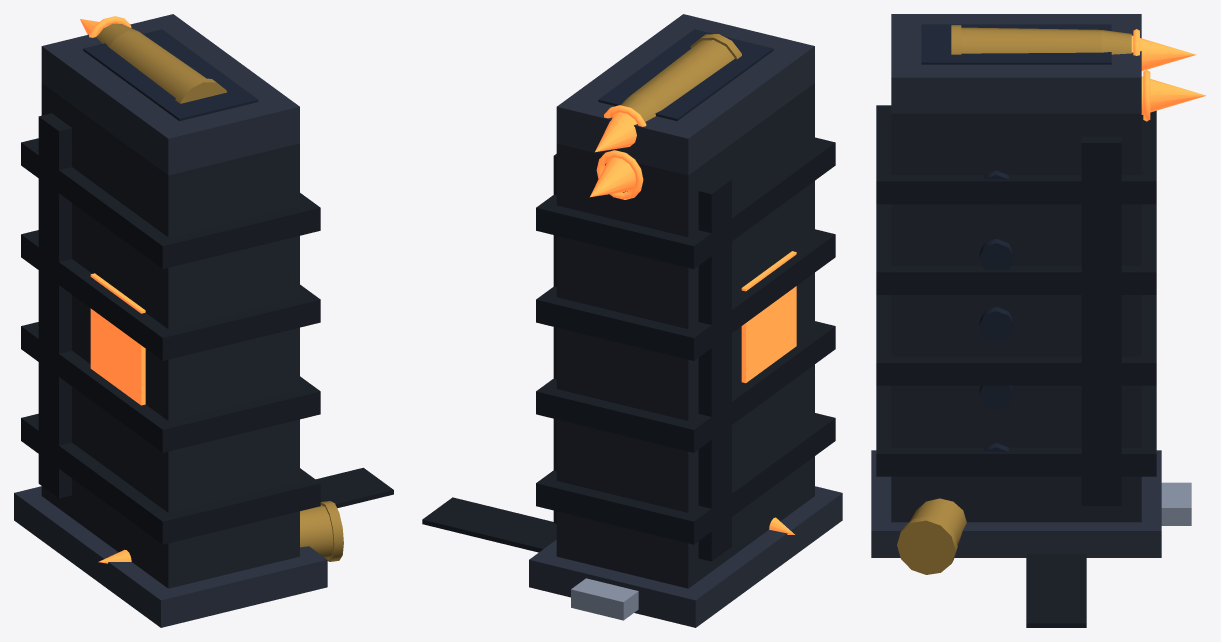
Rendered from ammo_incendiary.glb.
3 renders of one model, left to right at view 1: azimuth 30°, elevation 25°; view 2: azimuth 150°, elevation 25°; view 3: azimuth 270°, elevation 25°, orthographic.
Parts seen in each view (by area): view 1: ammo_incendiary_mag, ammo_incendiary_lips, ammo_incendiary_base, ammo_incendiary_side_rail-1, ammo_incendiary_rib3, ammo_incendiary_rib0, ammo_incendiary_rib1, ammo_incendiary_rib2, ammo_incendiary_lip_cut, ammo_incendiary_label, ammo_incendiary_top_case, ammo_incendiary_loose_shadow (+3 smaller); view 2: ammo_incendiary_mag, ammo_incendiary_lips, ammo_incendiary_base, ammo_incendiary_side_rail-1, ammo_incendiary_rib3, ammo_incendiary_rib0, ammo_incendiary_rib2, ammo_incendiary_rib1, ammo_incendiary_lip_cut, ammo_incendiary_loose_shadow, ammo_incendiary_label, ammo_incendiary_top_case (+6 smaller); view 3: ammo_incendiary_mag, ammo_incendiary_lips, ammo_incendiary_side_rail1, ammo_incendiary_base, ammo_incendiary_rib1, ammo_incendiary_rib0, ammo_incendiary_rib3, ammo_incendiary_rib2, ammo_incendiary_loose_shadow, ammo_incendiary_lip_cut, ammo_incendiary_top_case, ammo_incendiary_loose_rim (+8 smaller).
Part boxes in pixels (<box>): ammo_incendiary_mag: <box>41,83,299,588</box>; ammo_incendiary_lips: <box>41,14,299,175</box>; ammo_incendiary_base: <box>14,486,327,627</box>; ammo_incendiary_side_rail-1: <box>38,113,71,498</box>; ammo_incendiary_rib3: <box>21,138,320,268</box>; ammo_incendiary_rib0: <box>21,413,320,544</box>; ammo_incendiary_rib1: <box>21,322,320,452</box>; ammo_incendiary_rib2: <box>21,230,320,360</box>; ammo_incendiary_lip_cut: <box>83,29,258,121</box>; ammo_incendiary_label: <box>90,273,145,405</box>; ammo_incendiary_top_case: <box>109,31,224,103</box>; ammo_incendiary_loose_shadow: <box>316,467,393,508</box>; ammo_incendiary_mag: <box>556,83,814,588</box>; ammo_incendiary_lips: <box>556,14,814,175</box>; ammo_incendiary_base: <box>529,486,842,627</box>; ammo_incendiary_side_rail-1: <box>698,176,731,561</box>; ammo_incendiary_rib3: <box>536,137,835,268</box>; ammo_incendiary_rib0: <box>536,413,835,544</box>; ammo_incendiary_rib2: <box>536,229,835,360</box>; ammo_incendiary_rib1: <box>536,321,835,452</box>; ammo_incendiary_lip_cut: <box>598,29,773,120</box>; ammo_incendiary_loose_shadow: <box>422,497,556,552</box>; ammo_incendiary_label: <box>741,251,796,383</box>; ammo_incendiary_top_case: <box>632,40,734,109</box>; ammo_incendiary_mag: <box>891,113,1141,522</box>; ammo_incendiary_lips: <box>891,14,1141,113</box>; ammo_incendiary_side_rail1: <box>1081,136,1121,505</box>; ammo_incendiary_base: <box>871,450,1161,557</box>; ammo_incendiary_rib1: <box>876,295,1156,385</box>; ammo_incendiary_rib0: <box>876,385,1156,476</box>; ammo_incendiary_rib3: <box>876,105,1156,204</box>; ammo_incendiary_rib2: <box>876,204,1156,294</box>; ammo_incendiary_loose_shadow: <box>1026,553,1086,627</box>; ammo_incendiary_lip_cut: <box>921,24,1111,64</box>; ammo_incendiary_top_case: <box>961,27,1101,53</box>; ammo_incendiary_loose_rim: <box>897,516,957,574</box>.
Size of the model in its own units: 0.0728 by 0.108 by 0.067.
